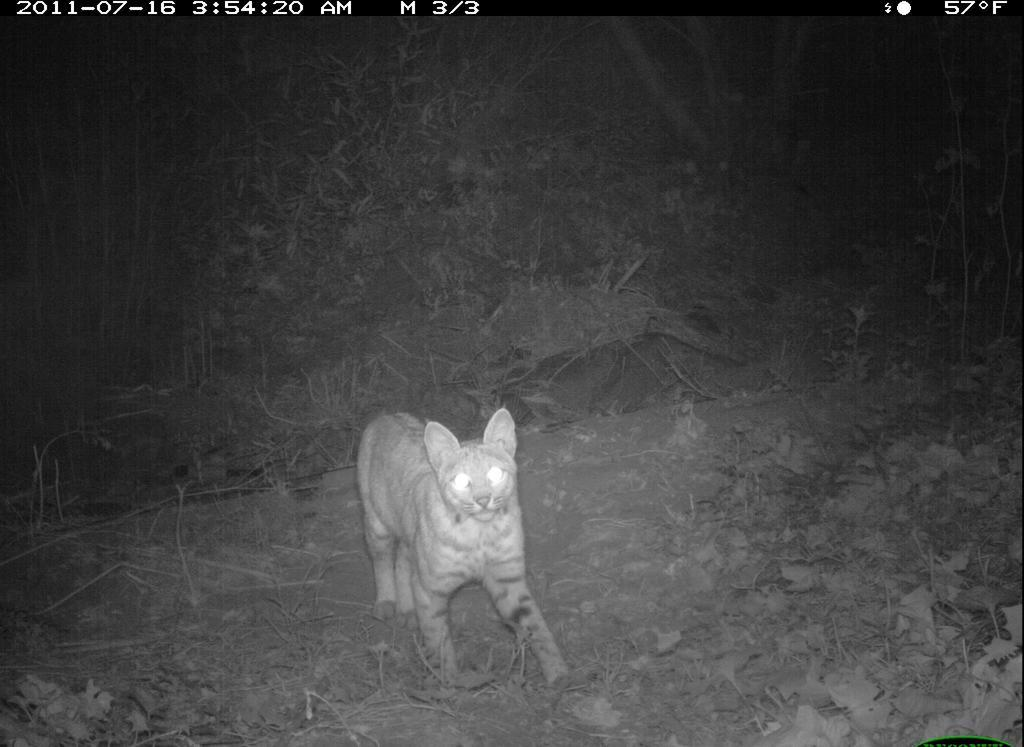bobcat: (349, 393, 587, 705)
